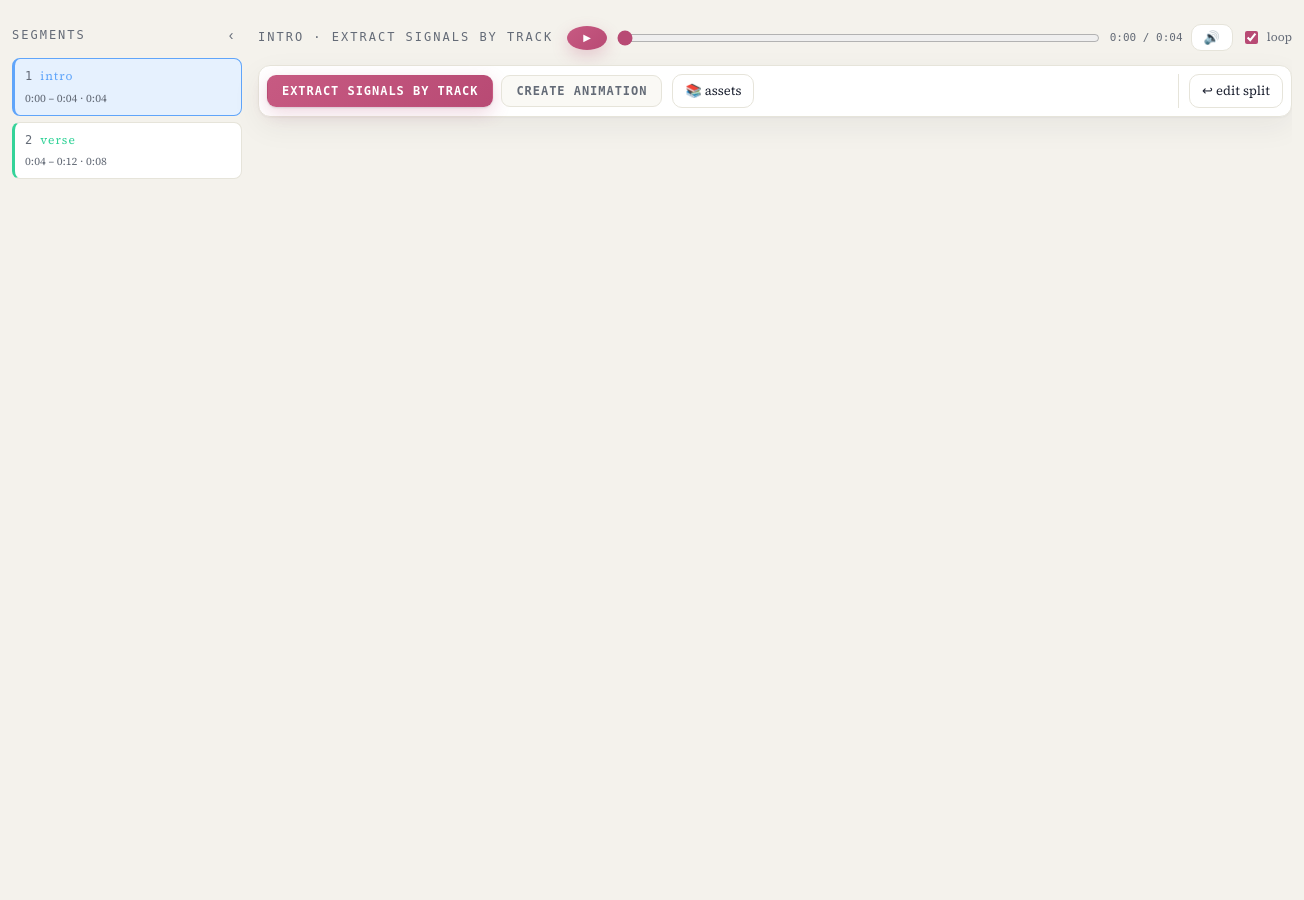
Test: Studio shell › drops the redundant mode from the title on the animation tab and shows the copy control
Click the tab "create animation".
click(582, 91)  # box x1=501 y1=75 x2=662 y2=107
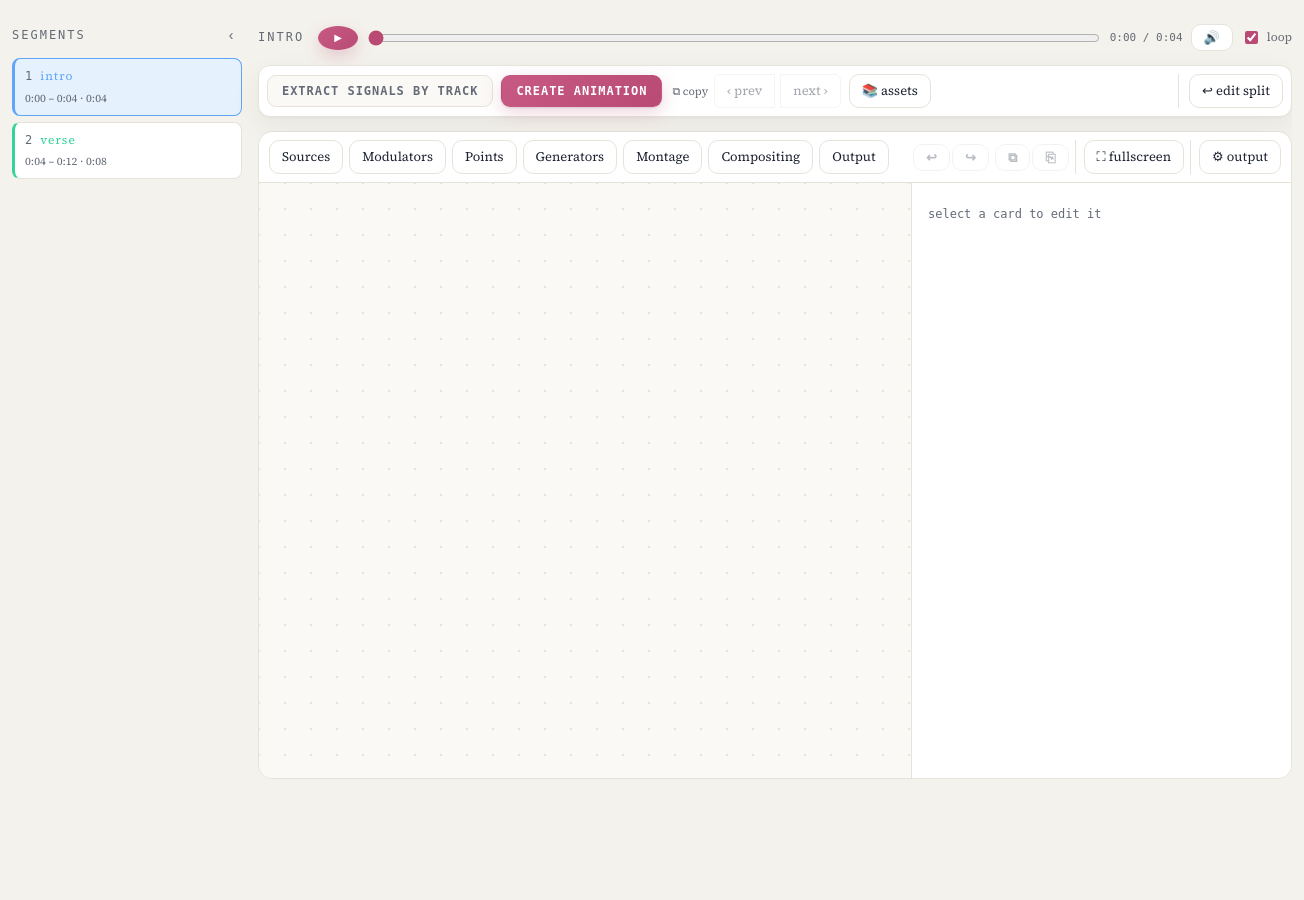
expect the text "INTRO" is shown: met, box x1=258 y1=28 x2=304 y2=47
expect the button "‹ prev" is shown: met, box x1=714 y1=74 x2=775 y2=108
expect the button "next ›" is shown: met, box x1=780 y1=74 x2=841 y2=108
